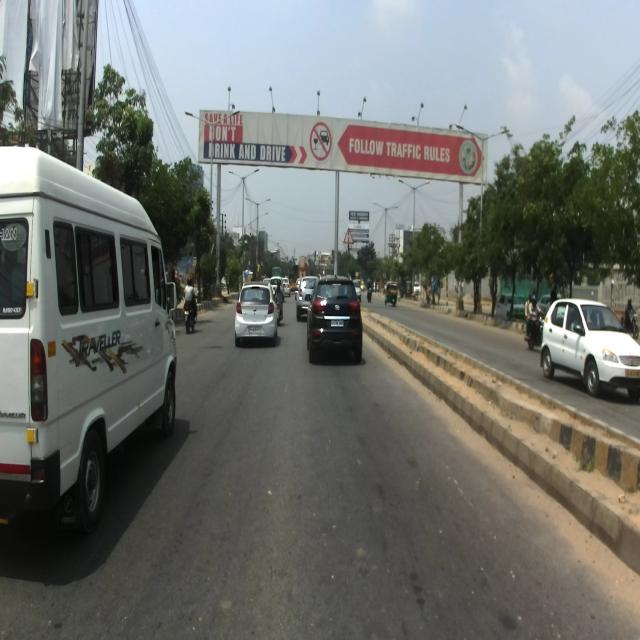car: (539, 297, 640, 399), (304, 273, 363, 363), (233, 281, 280, 346)
mini-bus: (0, 143, 181, 530)
